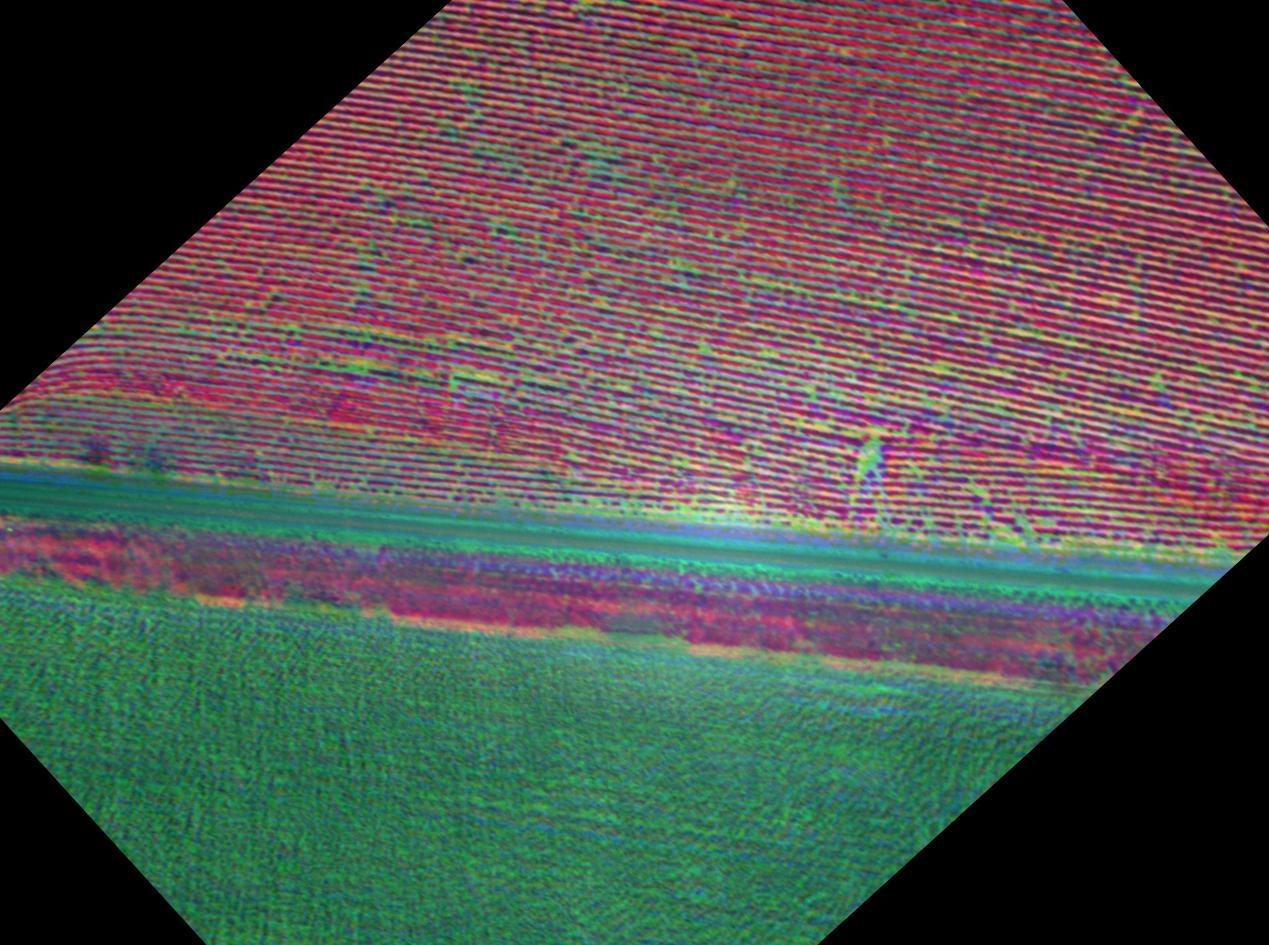dc: (864, 462, 869, 469), (702, 344, 707, 350), (870, 442, 876, 446), (494, 379, 498, 382), (568, 456, 572, 459), (762, 354, 766, 356)
